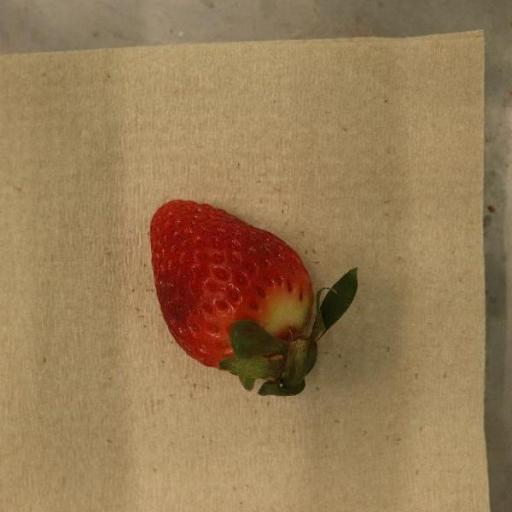Strawberry: (150, 200, 359, 398)
